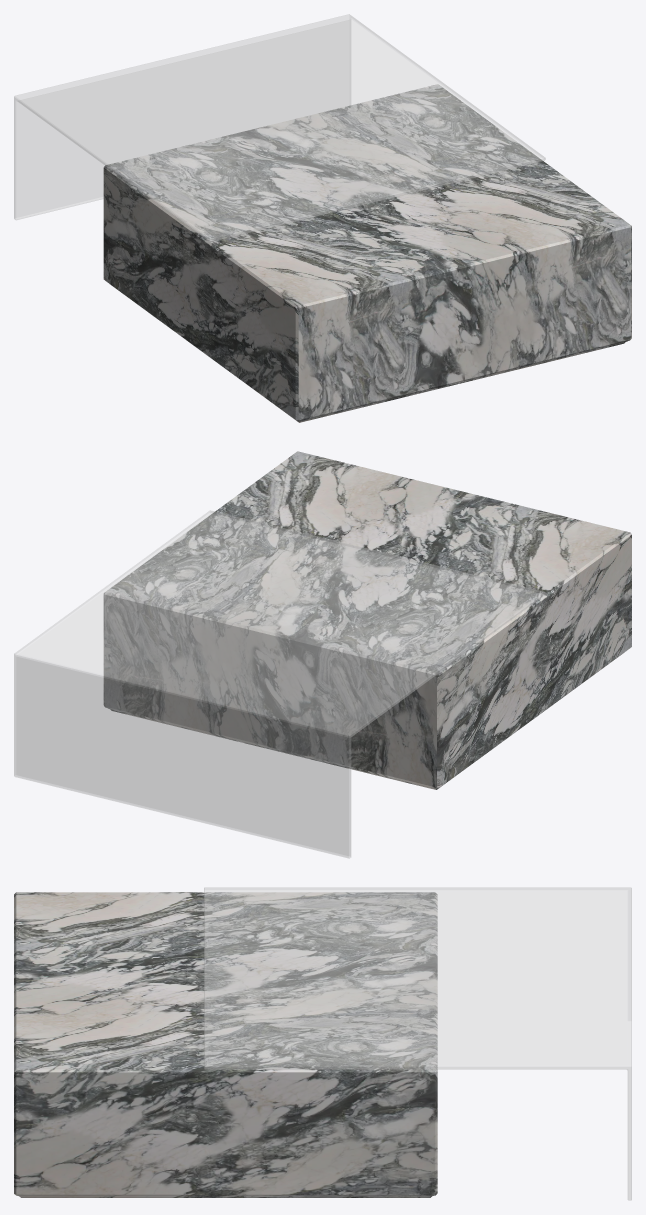
File: 784023dd-6758-4b3b-99c8-a96c4c8dfee2.glb
The picture shows the model from 3 angles, top to bottom: view 1: azimuth 30°, elevation 25°; view 2: azimuth 150°, elevation 25°; view 3: azimuth 270°, elevation 25°; orthographic projection. The views are drawn at different scales.
Visible parts, largest first — view 1: Coffee Table, Cube.004; view 2: Coffee Table, Cube.004; view 3: Coffee Table, Cube.004.
Boxes of the visible parts, <box> form: Coffee Table: <box>103,84,631,422</box>; Cube.004: <box>14,14,545,241</box>; Coffee Table: <box>103,451,631,789</box>; Cube.004: <box>14,510,545,858</box>; Coffee Table: <box>14,892,437,1197</box>; Cube.004: <box>204,887,631,1200</box>.
Bounding box in the file's own units: 0.9406 × 0.331 × 1.37.
Materials: 2 (1 with a texture image).
